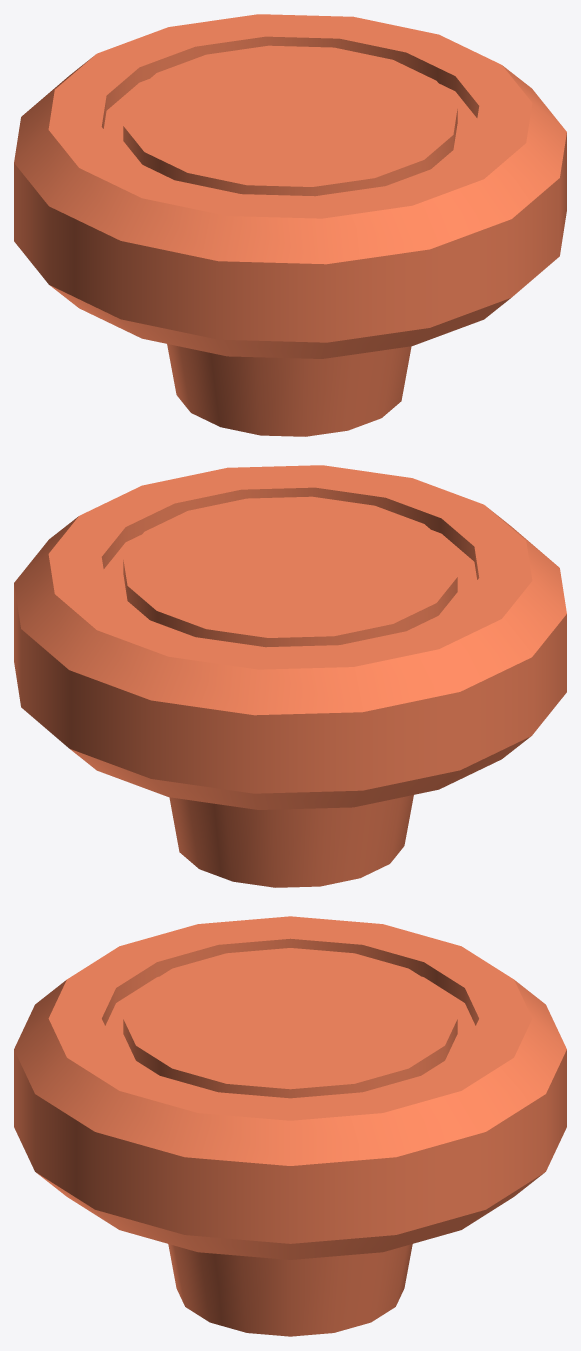
File: button.gltf
The picture shows the model from 3 angles, top to bottom: view 1: azimuth 30°, elevation 25°; view 2: azimuth 150°, elevation 25°; view 3: azimuth 270°, elevation 25°; orthographic projection.
Parts seen in each view (by area): view 1: button_geo; view 2: button_geo; view 3: button_geo.
Part boxes in pixels (bbox=[...]): button_geo: bbox=[14, 14, 566, 436]; button_geo: bbox=[14, 465, 566, 887]; button_geo: bbox=[14, 916, 566, 1336].
Size of the model in its own units: 0.9 by 0.4847 by 0.9.
